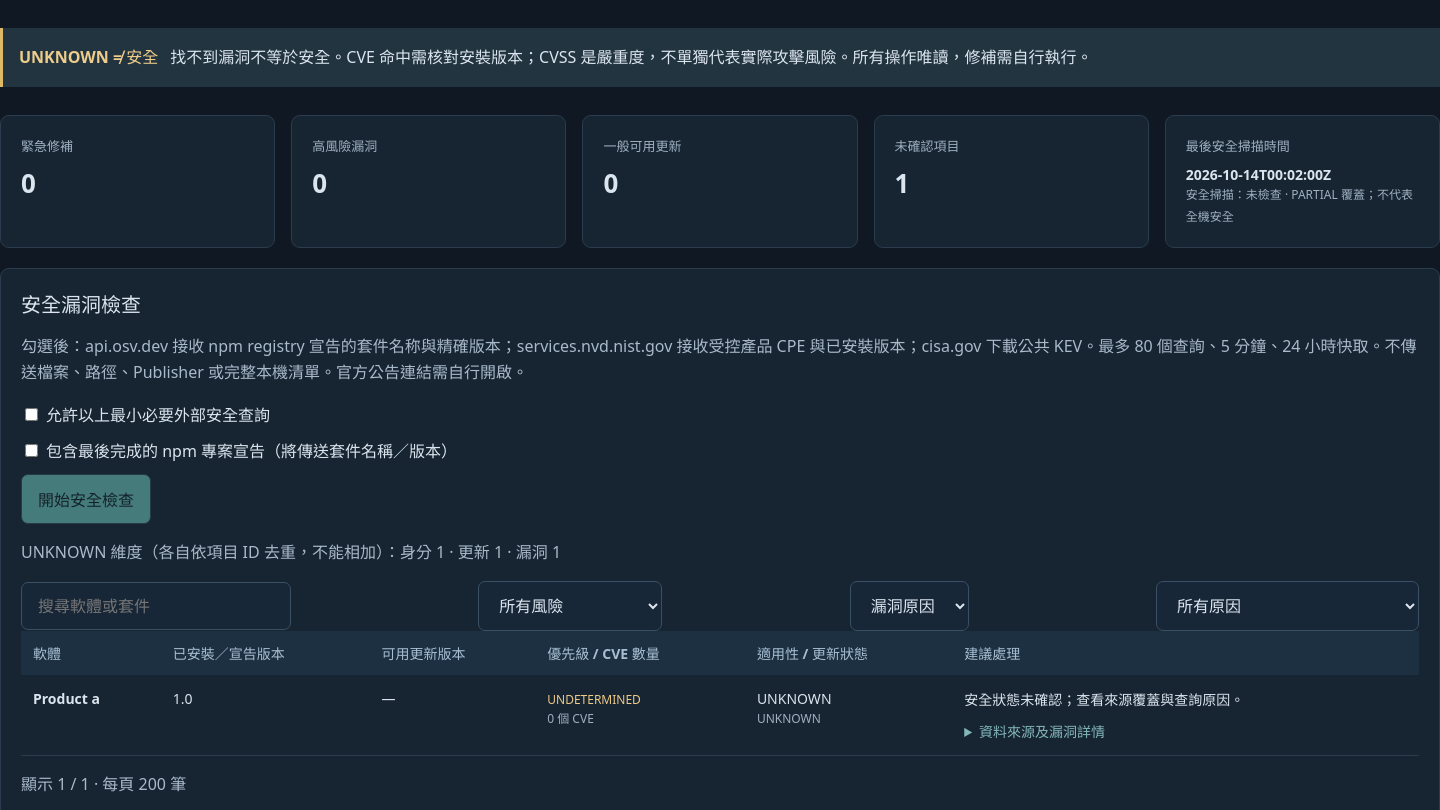
Scenario: UNKNOWN counts unique items rather than reasons, with independent dimensions
Expected: the text "Product a" is shown, [33,689,100,708]
Expected: the text "UNKNOWN 維度（各自依項目 ID 去重，不能相加）：身分 1 · 更新 1 · 漏洞 1" is shown, [21,541,561,563]
Select "查詢失敗（查看資料源錯誤）" in the dropdown named "未確認原因" at (1288, 606), box [1156,581,1419,631]
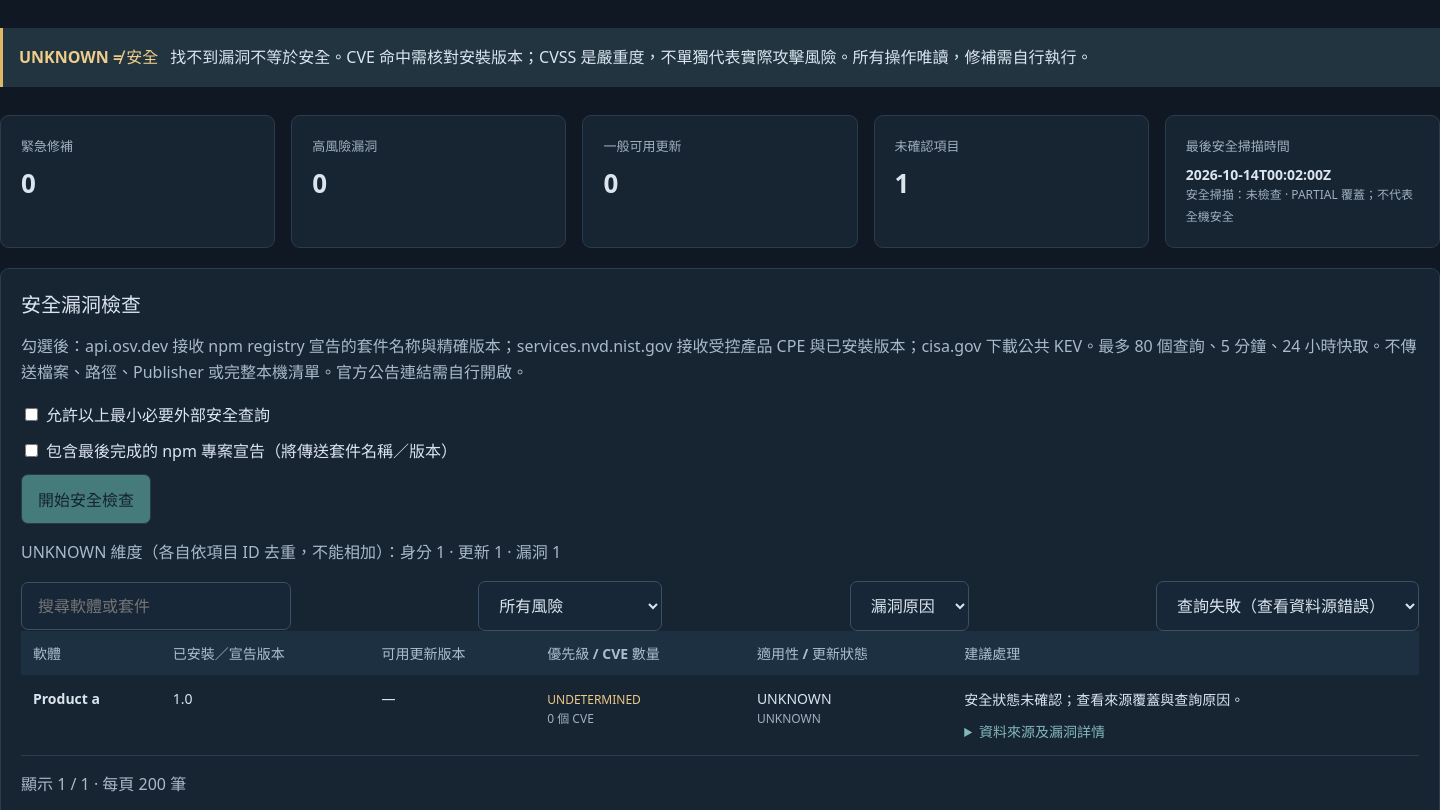
Expected: the text "Product a" is shown, [33,689,100,708]
Select "更新原因" in the dropdown named "未知檢查維度" at (909, 606), box [850,581,969,631]
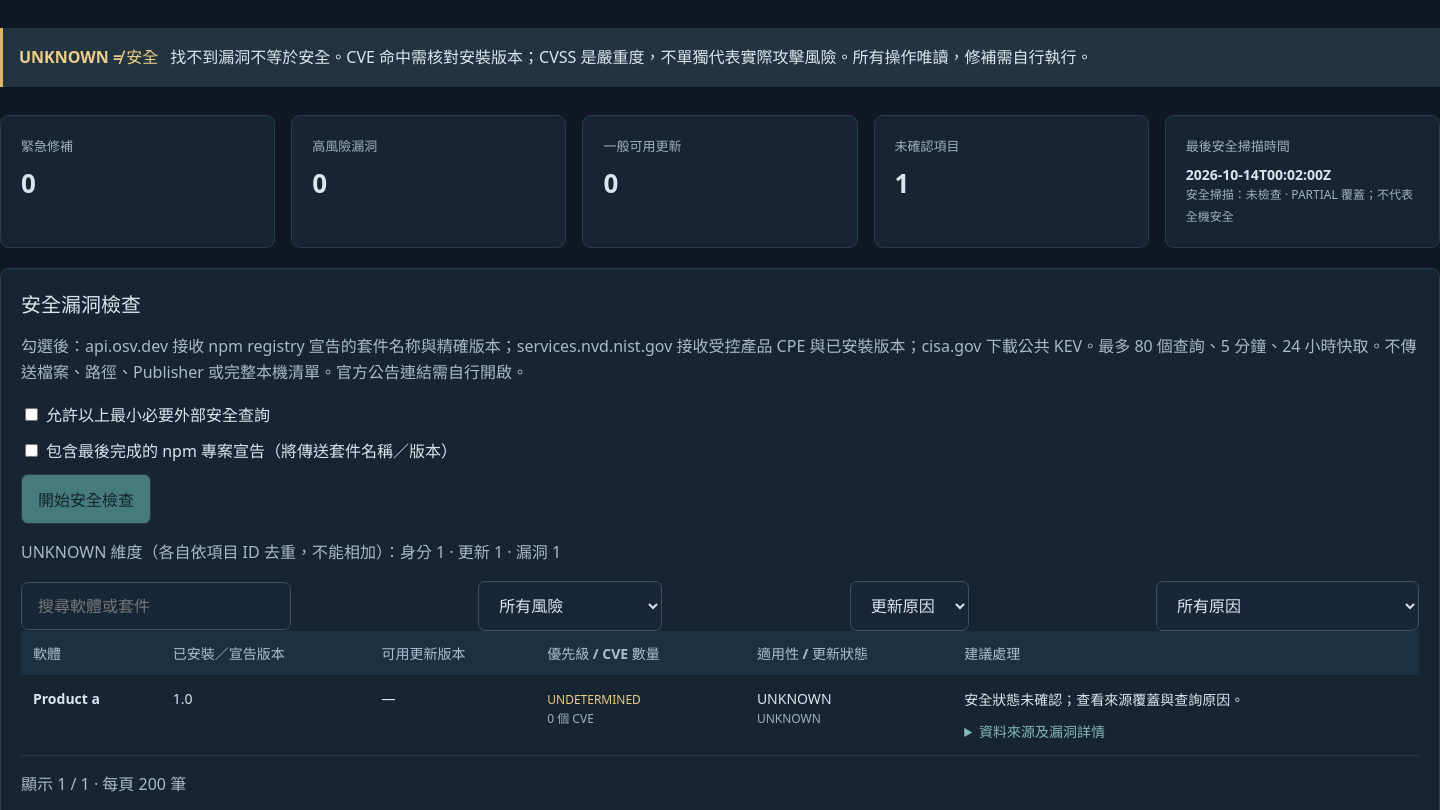
Select "版本被釘選" in the dropdown named "未確認原因" at (1288, 606), box [1156,581,1419,631]
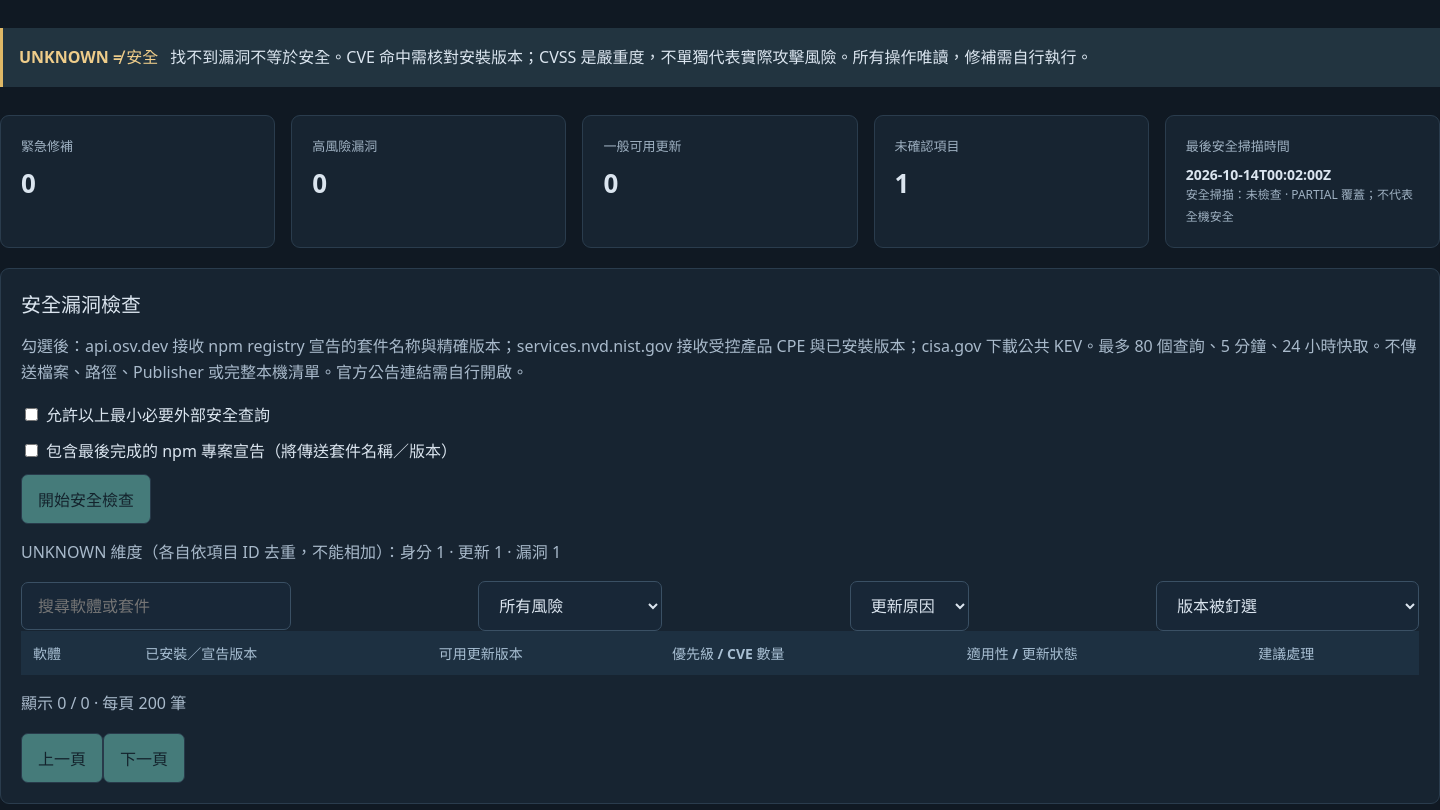
Expected: the text "Product a" is gone
